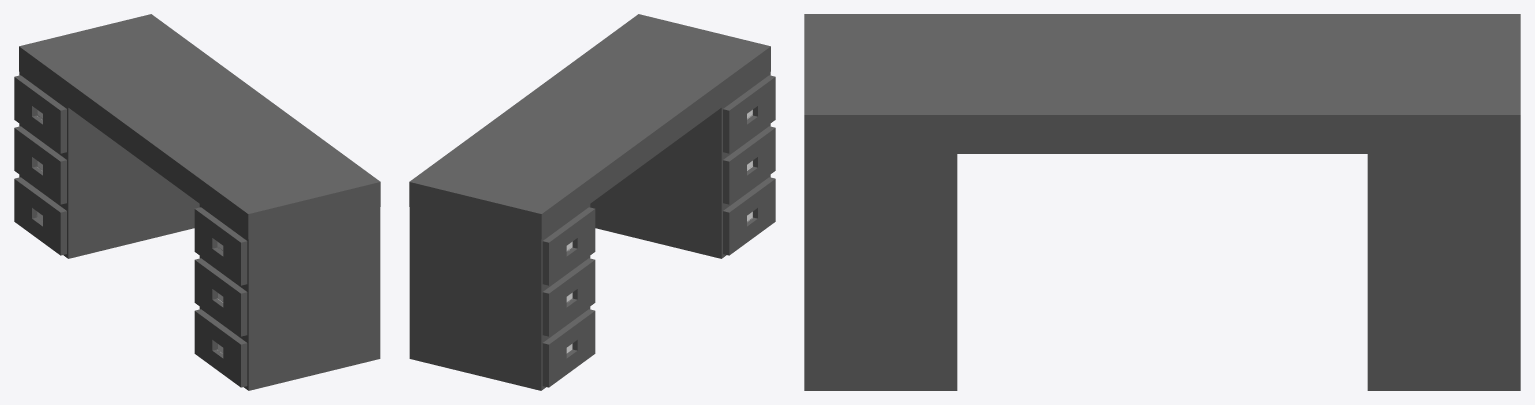
The model's file is table.fbx.
3 renders of one model, left to right at view 1: azimuth 30°, elevation 25°; view 2: azimuth 150°, elevation 25°; view 3: azimuth 270°, elevation 25°, orthographic. The views are drawn at different scales.
Visible parts, largest first — view 1: Cube.012, Cube.003; view 2: Cube.012, Cube.003; view 3: Cube.003, Cube.012.
Boxes of the visible parts, x1=… form: Cube.012: x1=14, y1=72, x2=380, y2=390; Cube.003: x1=19, y1=14, x2=380, y2=239; Cube.012: x1=409, y1=72, x2=775, y2=390; Cube.003: x1=409, y1=14, x2=770, y2=239; Cube.003: x1=804, y1=14, x2=1520, y2=153; Cube.012: x1=804, y1=154, x2=1520, y2=390.
Size of the model in its own units: 196 by 240 by 563.
